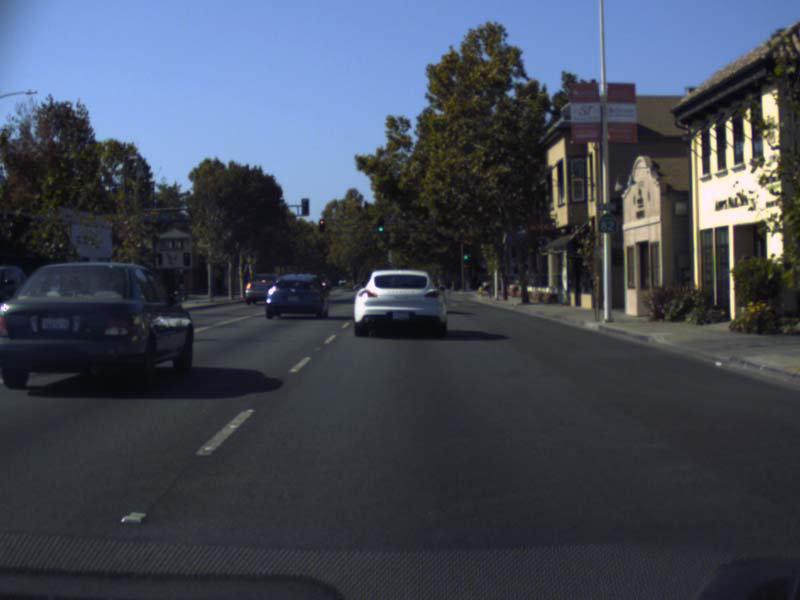Green: (462, 246, 468, 260), (378, 218, 383, 232)
Red: (319, 218, 325, 232), (463, 263, 467, 273)
